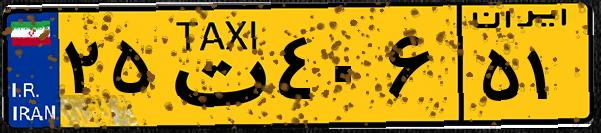0: (330, 28, 385, 110)
1: (525, 38, 570, 115)
2: (57, 26, 110, 100)
4: (270, 28, 330, 110)
5: (475, 38, 525, 113), (110, 28, 158, 98)
6: (385, 28, 445, 110)
ت: (158, 12, 270, 120)
